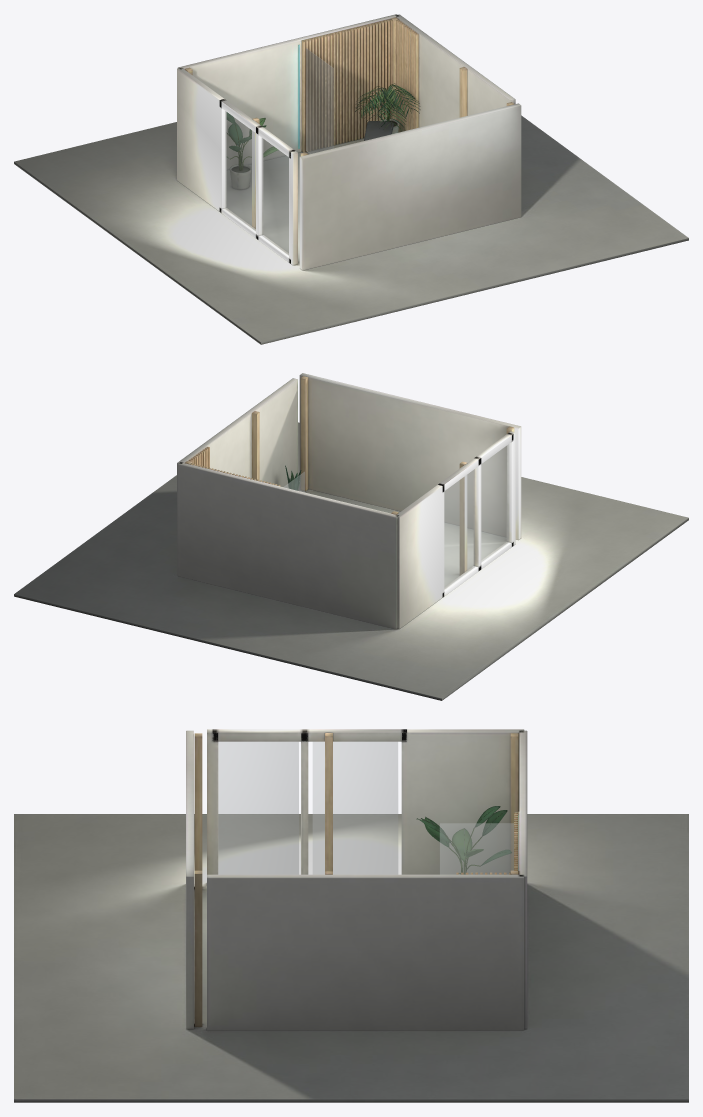
Rendered from treatment-room.glb.
The picture shows the model from 3 angles, top to bottom: view 1: azimuth 30°, elevation 25°; view 2: azimuth 150°, elevation 25°; view 3: azimuth 270°, elevation 25°; orthographic projection. The views are drawn at different scales.
Parts seen in each view (by area): view 1: Room_Floor, Room_FrontWall, Room_BackWall, Room_LeftWall, Room_RightWall, Room_WindowGlass, Room_Glass, Room_PlantPalm, Room_PlantBroadleaf; view 2: Room_Floor, Room_BackWall, Room_FrontWall, Room_LeftWall, Room_RightWall, Room_WindowGlass; view 3: Room_Floor, Room_RightWall, Room_WindowGlass, Room_LeftWall, Room_FrontWall, Room_Glass, Room_BackWall, Room_PlantBroadleaf.
Boxes of the visible parts, box(x1,y1,x2,y2) form: Room_Floor: box(14, 115, 688, 344); Room_FrontWall: box(299, 102, 521, 270); Room_BackWall: box(177, 14, 398, 169); Room_LeftWall: box(177, 68, 297, 265); Room_RightWall: box(396, 14, 515, 132); Room_WindowGlass: box(225, 111, 288, 255); Room_Glass: box(306, 48, 333, 153); Room_PlantPalm: box(355, 83, 420, 133); Room_PlantBroadleaf: box(226, 112, 278, 189); Room_Floor: box(14, 422, 688, 700); Room_BackWall: box(177, 461, 398, 629); Room_FrontWall: box(299, 373, 521, 540); Room_LeftWall: box(397, 431, 515, 628); Room_RightWall: box(177, 378, 297, 574); Room_WindowGlass: box(444, 444, 508, 588); Room_Floor: box(14, 814, 688, 1102); Room_RightWall: box(207, 871, 524, 1030); Room_WindowGlass: box(218, 742, 397, 874); Room_LeftWall: box(207, 729, 524, 874); Room_FrontWall: box(186, 730, 202, 1029); Room_Glass: box(440, 823, 513, 874); Room_BackWall: box(510, 730, 527, 1029); Room_PlantBroadleaf: box(416, 806, 511, 874).
Size of the model in its own units: 12 by 3.07 by 12.
Materials: 3 (2 with a texture image).
